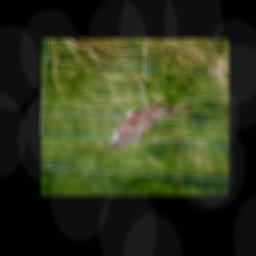Cuckoo: (102, 97, 196, 152)
